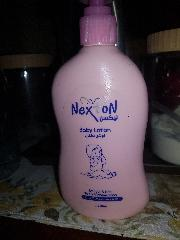plastic: (50, 0, 150, 220), (145, 28, 179, 166)
